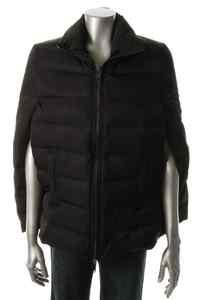C_W_pants: (47, 231, 148, 300)
C_jacket: (8, 11, 191, 261)
